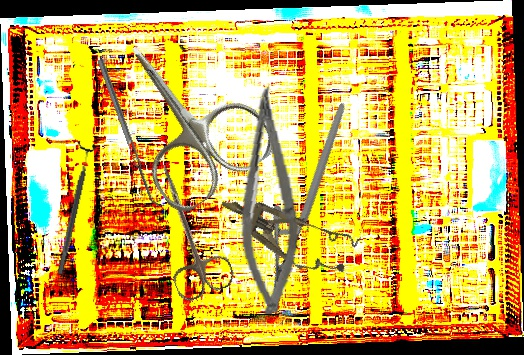Fixation Ring: (49, 139, 99, 278)
Iris Scissors: (83, 11, 282, 219), (133, 154, 238, 305)
Micro Scissor: (227, 85, 307, 316)
Needle Holder: (212, 102, 404, 316)
Spatula Surgical: (97, 56, 163, 210)
Speculum: (210, 178, 362, 287)
